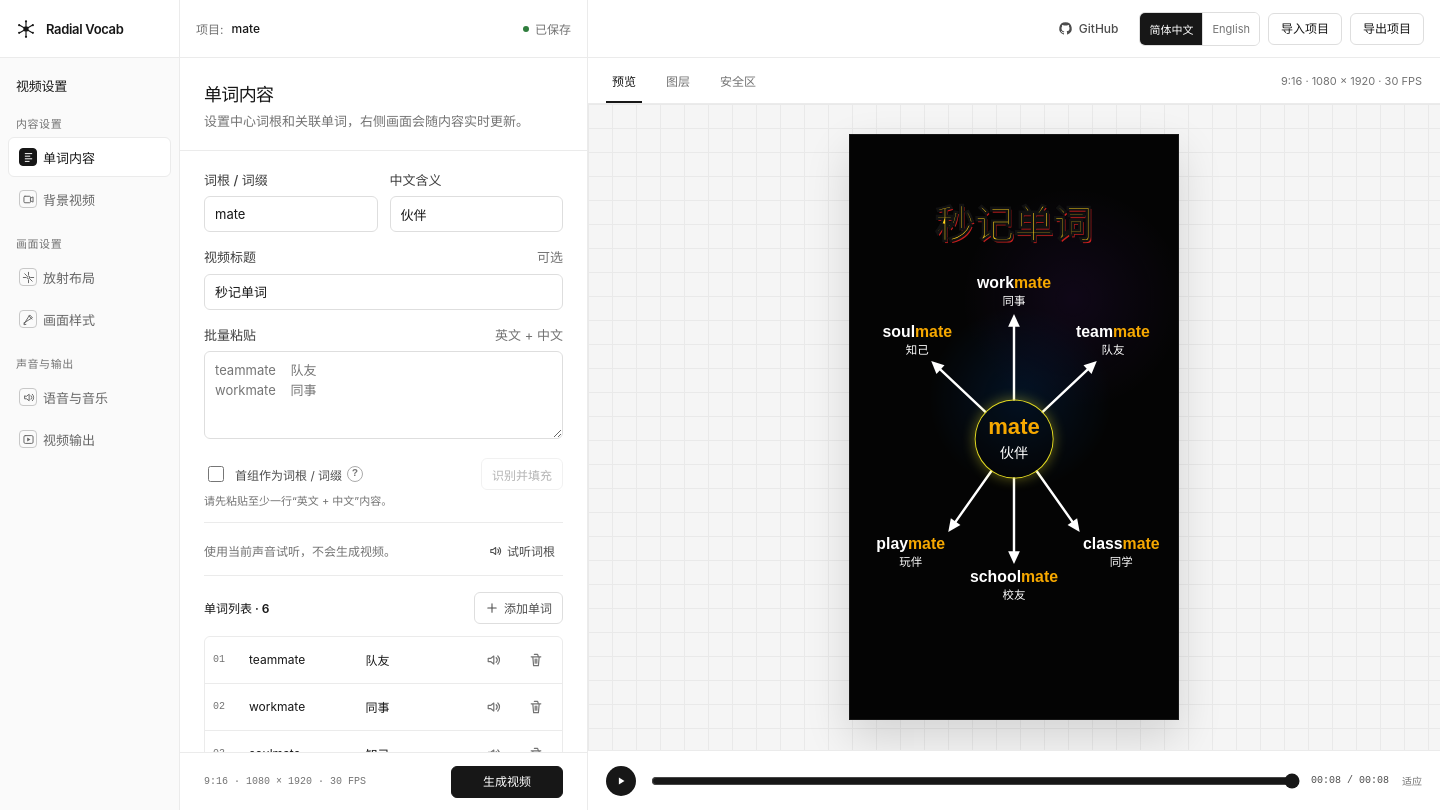
it: three-column editor › switches to English
What coordinates should you click on to do the following:
click the button "English"
I would click on:
 (1231, 28)
Its box is top-left (1204, 12), bottom-right (1259, 44).
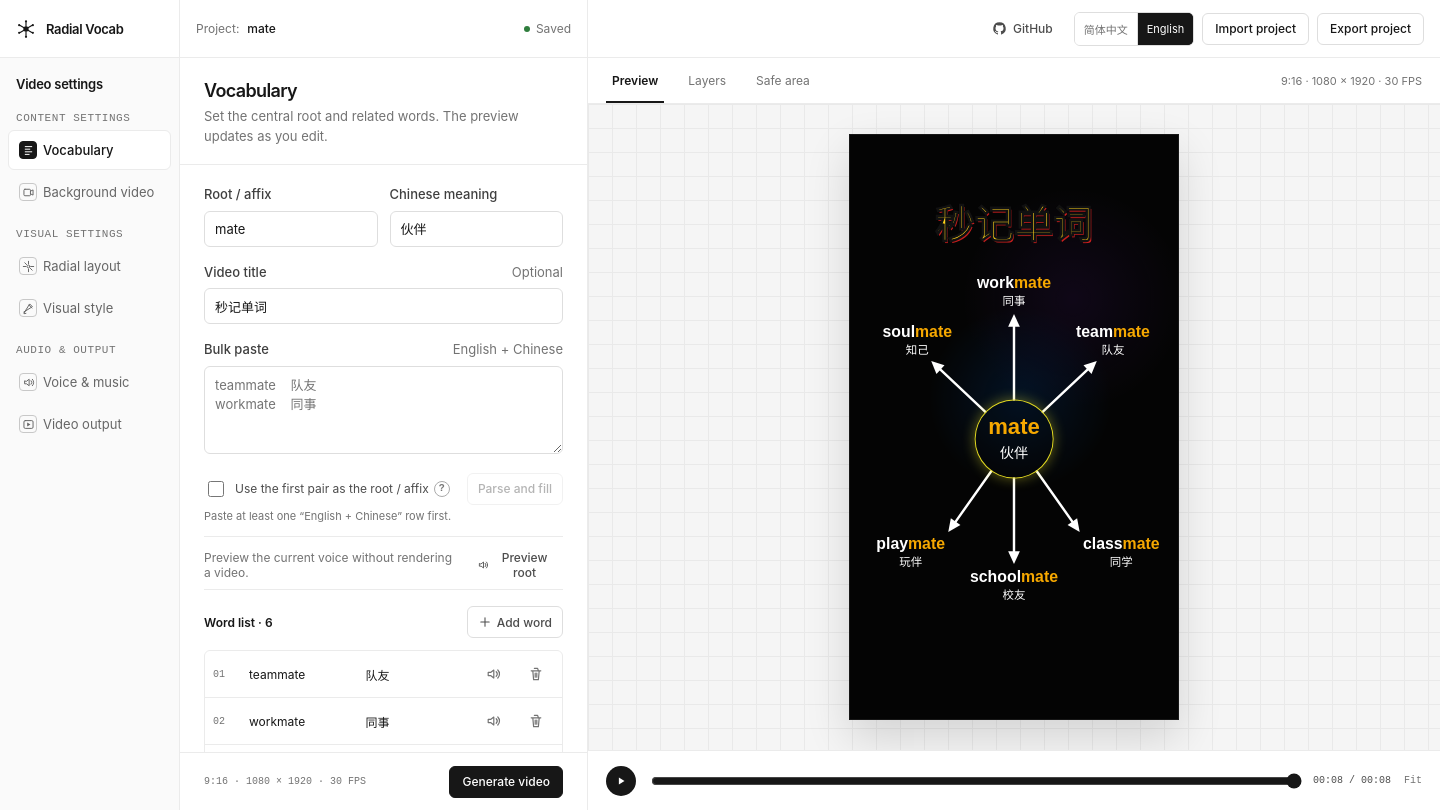
Expected: the button "Background video" is shown, top-left (8, 172), bottom-right (171, 212)
Expected: the button "Generate video" is shown, top-left (450, 766), bottom-right (563, 798)
